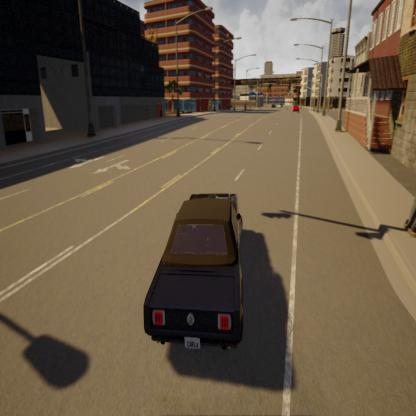Cars: (145, 192, 245, 358), (291, 101, 300, 117)
